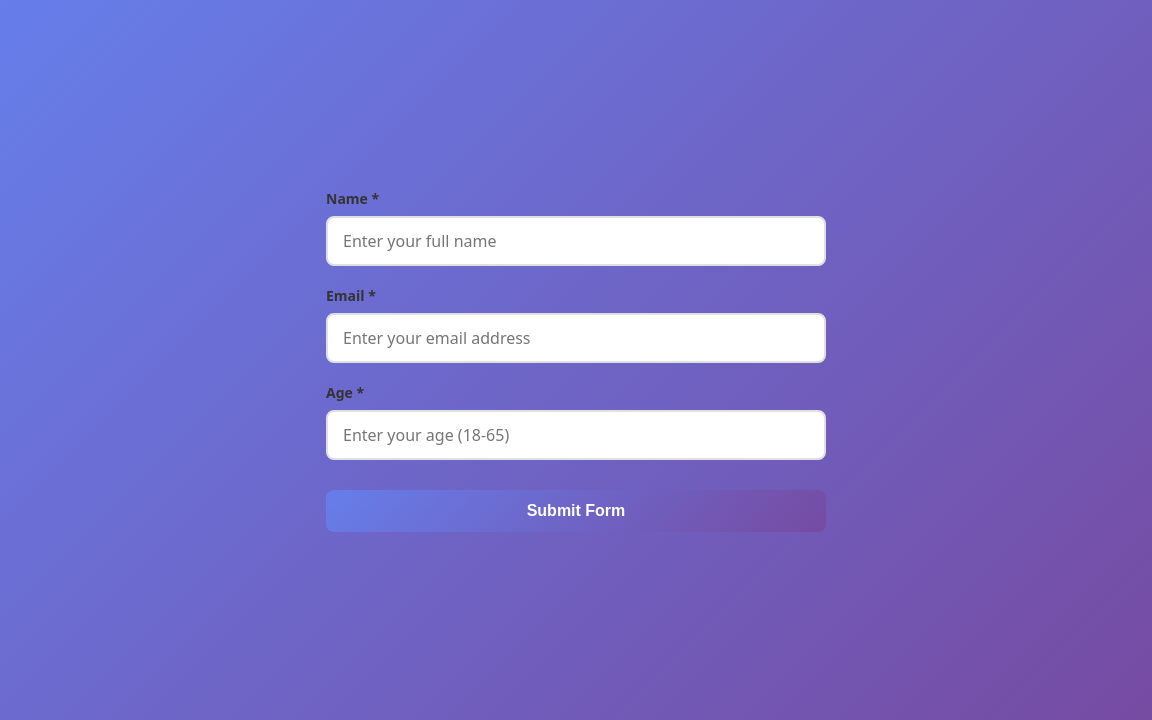
Test case: FormComponent › Form Validation - Age Field › displays error when age is greater than 65
// Fill in required fields
Type "Jane Smith" into the field labelled "Name *". click: point(576, 240)
box: [326, 216, 826, 266]
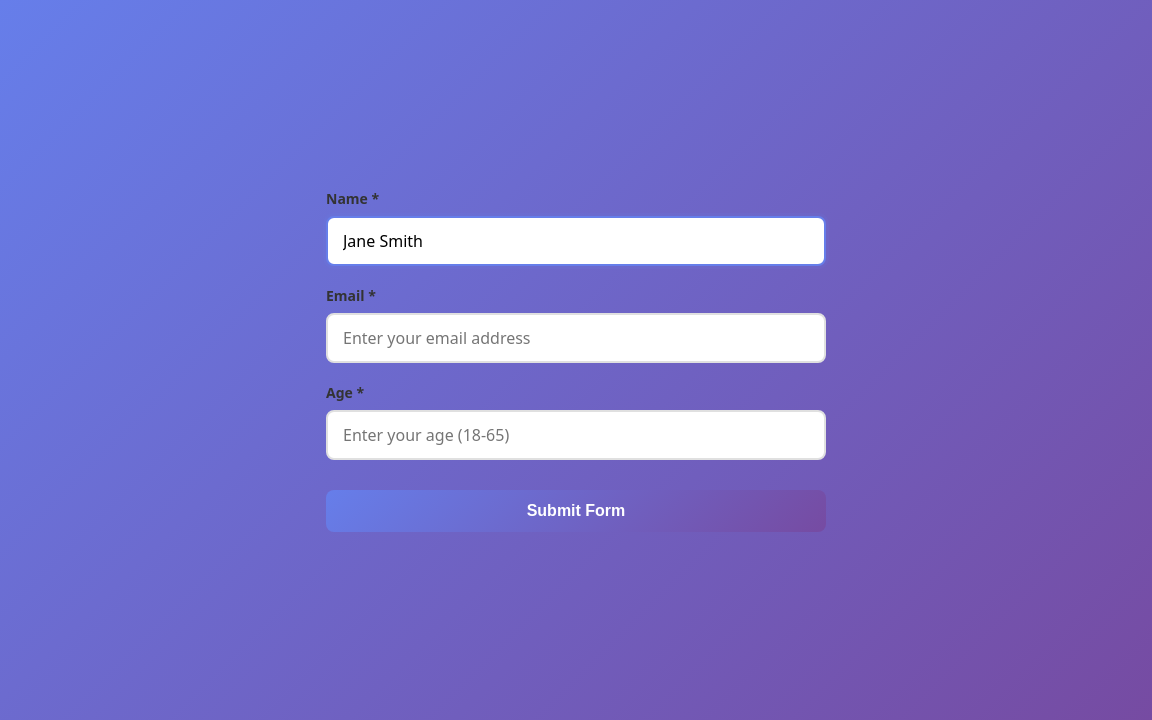
Type "jane@example.com" into the field labelled "Email *". click: point(576, 338)
box: [326, 312, 826, 362]
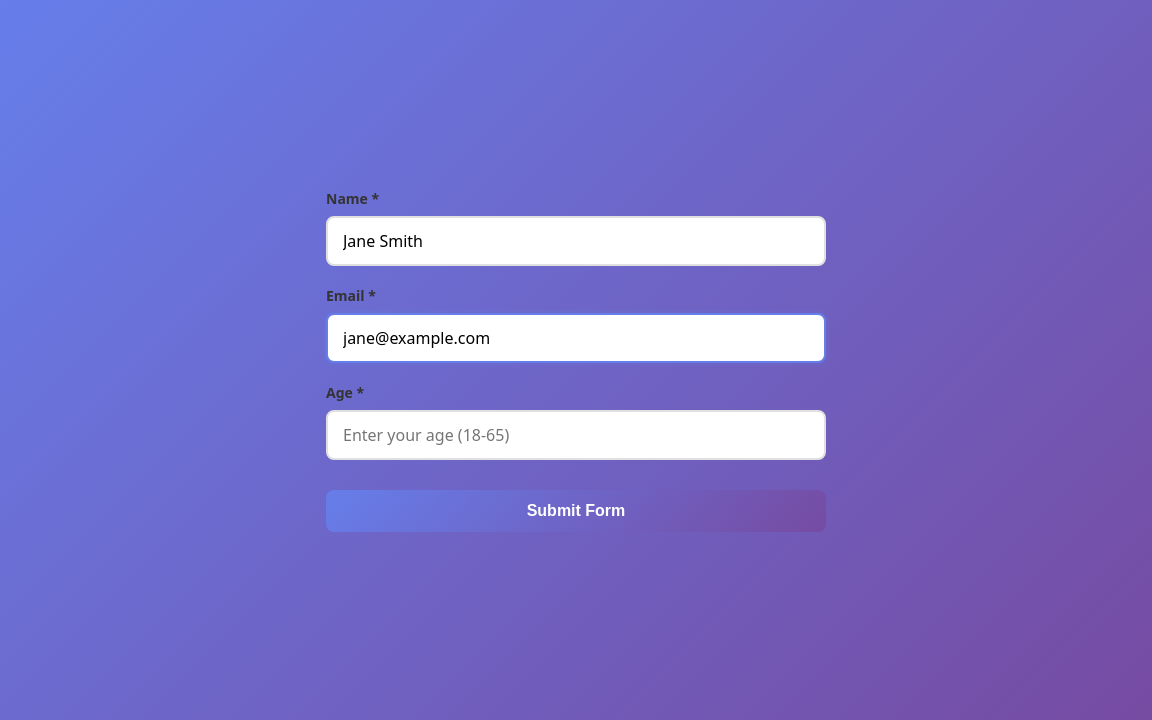
// Enter age greater than 65
Type "70" into the number field labelled "Age *". click: point(576, 434)
box: [326, 410, 826, 460]
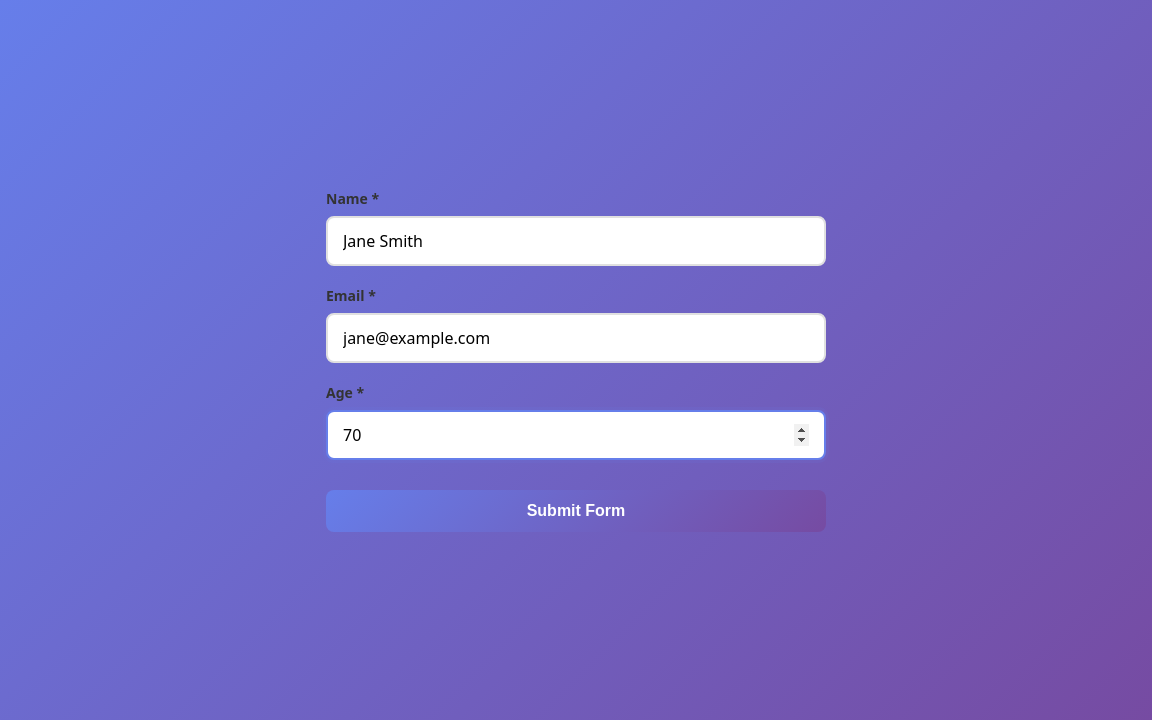
// Submit form
Click the button "Submit Form". click: point(576, 510)
box: [326, 490, 826, 532]
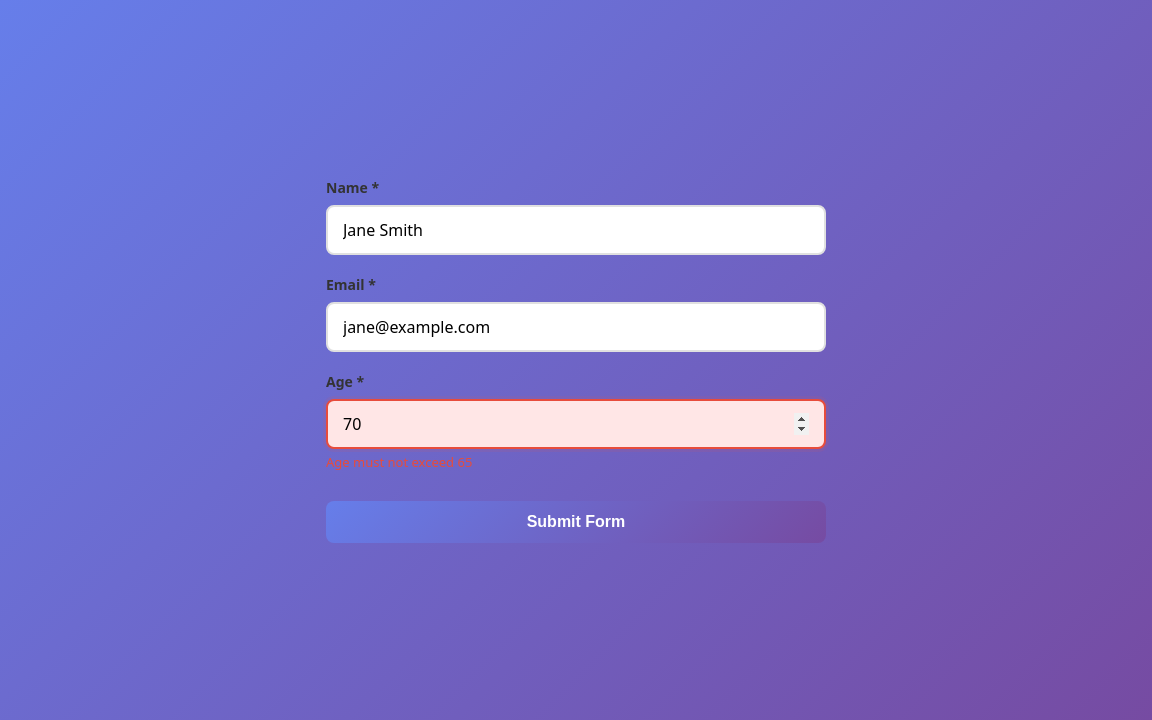
Now the text "Age must not exceed 65" is shown, box [326, 452, 472, 470]
